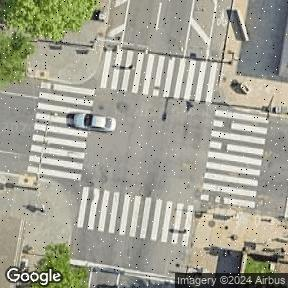vegetation: (38, 244, 87, 288)
